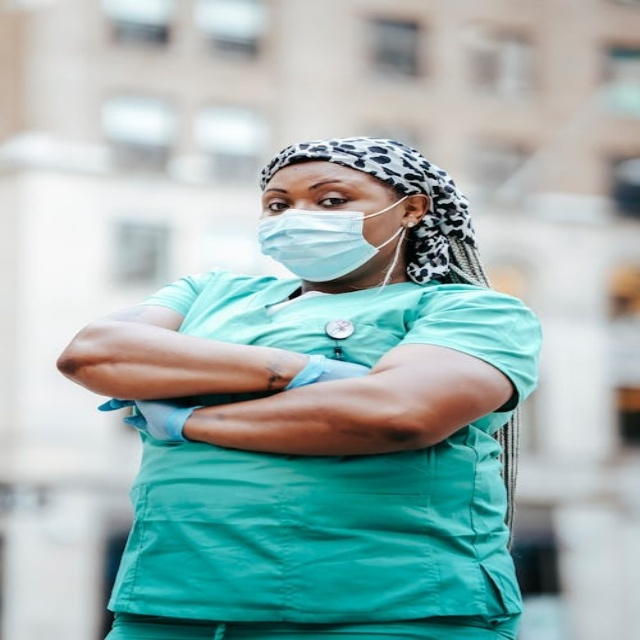Guantes: (124, 399, 202, 444), (284, 354, 372, 391)
Mascara: (258, 196, 405, 282)
Sin_gafas: (317, 196, 350, 208), (267, 201, 291, 212)
